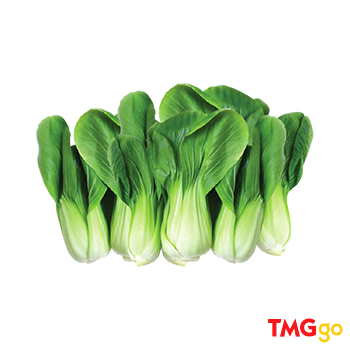Sawi: (38, 78, 323, 270)
